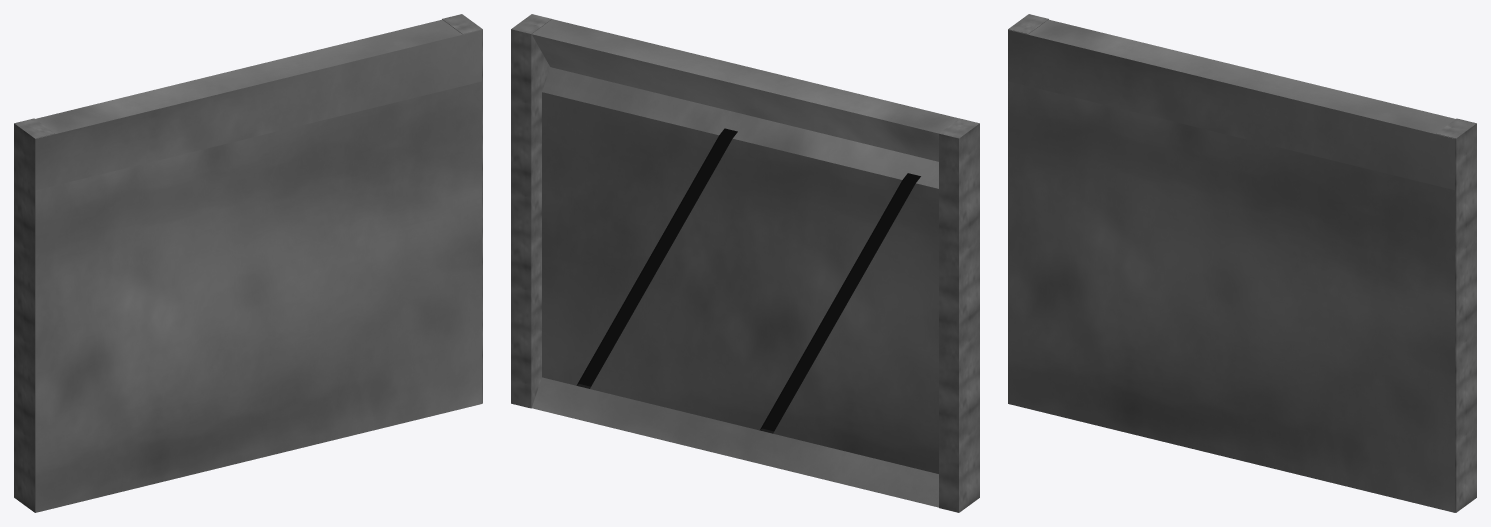
Rendered from Dirty Carbon Floor Side.fbx.
3 renders of one model, left to right at view 1: azimuth 30°, elevation 25°; view 2: azimuth 150°, elevation 25°; view 3: azimuth 330°, elevation 25°, orthographic.
Parts seen in each view (by area): view 1: dirty carbon grey Mesh (1), dirty carbon dark grey Mesh (1); view 2: dirty carbon grey Mesh (1), dirty carbon dark grey Mesh (1), carbon dark grey Mesh (1); view 3: dirty carbon grey Mesh (1), dirty carbon dark grey Mesh (1).
Boxes of the visible parts, x1,y1,x2,y2 form: dirty carbon grey Mesh (1): (35,19,481,512); dirty carbon dark grey Mesh (1): (14,14,482,512); dirty carbon grey Mesh (1): (531,19,959,507); dirty carbon dark grey Mesh (1): (511,14,979,512); carbon dark grey Mesh (1): (576,128,920,433); dirty carbon grey Mesh (1): (1008,19,1455,512); dirty carbon dark grey Mesh (1): (1008,14,1476,512).
Bounding box in the file's own units: 5.01 × 4 × 0.408.
